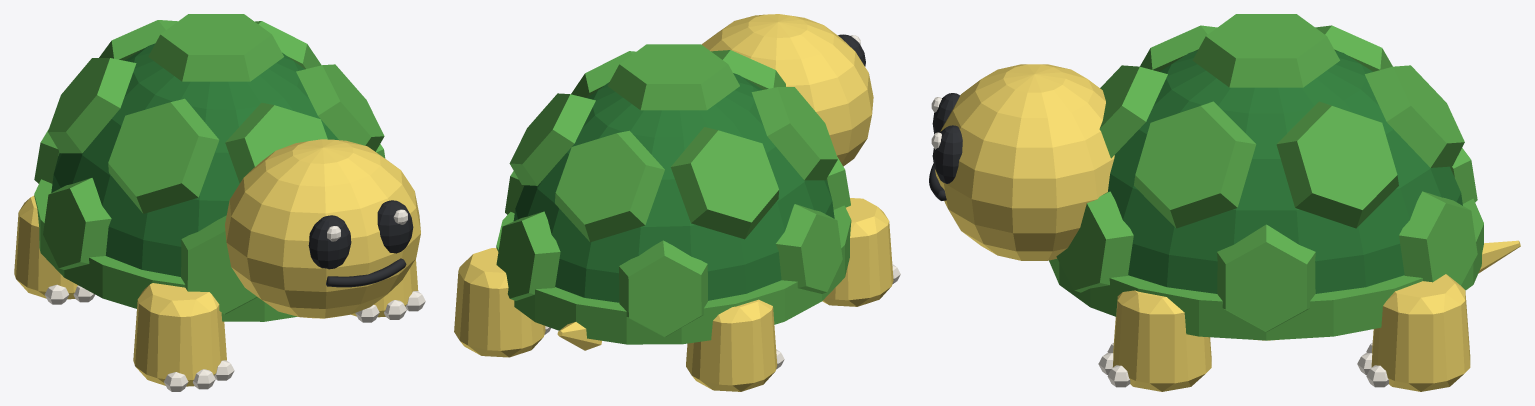
Rendered from chunky-turtle-pet.glb.
The picture shows the model from 3 angles, left to right: view 1: azimuth 30°, elevation 25°; view 2: azimuth 150°, elevation 25°; view 3: azimuth 270°, elevation 25°; orthographic projection. The views are drawn at different scales.
Visible parts, largest first — view 1: Head, Shell_Dome, Shell_Plate_04, Leg_FL, Shell_Plate_00, Shell_Plate_03, Shell_Rim, Shell_Plate_10, Shell_Plate_06, Shell_Plate_05, Shell_Plate_11, Leg_BL (+10 smaller); view 2: Shell_Dome, Head, Shell_Rim, Shell_Plate_02, Shell_Plate_03, Shell_Plate_00, Shell_Plate_09, Leg_BR, Leg_BL, Shell_Plate_04, Leg_FL, Shell_Plate_10 (+7 smaller); view 3: Shell_Dome, Head, Shell_Plate_01, Shell_Plate_06, Shell_Rim, Leg_BR, Shell_Plate_00, Shell_Plate_07, Leg_FR, Shell_Plate_02, Shell_Plate_08, Shell_Plate_12 (+7 smaller).
Part boxes in pixels (left/top/right/bottom): Head: left=225, top=139, right=420, bottom=318; Shell_Dome: left=51, top=43, right=338, bottom=276; Shell_Plate_04: left=108, top=98, right=219, bottom=213; Leg_FL: left=133, top=283, right=226, bottom=386; Shell_Plate_00: left=148, top=14, right=283, bottom=81; Shell_Plate_03: left=48, top=58, right=136, bottom=153; Shell_Rim: left=34, top=179, right=297, bottom=321; Shell_Plate_10: left=43, top=178, right=111, bottom=269; Shell_Plate_06: left=296, top=64, right=384, bottom=151; Shell_Plate_05: left=225, top=102, right=327, bottom=183; Shell_Plate_11: left=181, top=215, right=257, bottom=314; Leg_BL: left=14, top=195, right=77, bottom=299; Shell_Dome: left=513, top=73, right=834, bottom=302; Head: left=701, top=14, right=873, bottom=166; Shell_Rim: left=496, top=205, right=851, bottom=344; Shell_Plate_02: left=555, top=130, right=664, bottom=242; Shell_Plate_03: left=670, top=127, right=779, bottom=239; Shell_Plate_00: left=607, top=44, right=739, bottom=110; Shell_Plate_09: left=619, top=240, right=707, bottom=337; Leg_BR: left=454, top=248, right=545, bottom=357; Leg_BL: left=686, top=299, right=777, bottom=391; Shell_Plate_04: left=751, top=87, right=837, bottom=180; Leg_FL: left=822, top=198, right=893, bottom=306; Shell_Plate_10: left=776, top=204, right=842, bottom=293; Shell_Dome: left=1108, top=50, right=1462, bottom=293; Head: left=935, top=64, right=1114, bottom=260; Shell_Plate_01: left=1276, top=101, right=1398, bottom=228; Shell_Plate_06: left=1134, top=101, right=1256, bottom=228; Shell_Rim: left=1049, top=198, right=1483, bottom=340; Leg_BR: left=1371, top=274, right=1470, bottom=391; Shell_Plate_00: left=1192, top=14, right=1339, bottom=87; Shell_Plate_07: left=1217, top=224, right=1315, bottom=332; Leg_FR: left=1112, top=290, right=1211, bottom=391; Shell_Plate_02: left=1365, top=65, right=1464, bottom=167; Shell_Plate_08: left=1399, top=191, right=1477, bottom=285; Shell_Plate_12: left=1056, top=191, right=1133, bottom=292.
Bounding box in the file's own units: 2.35 × 1.85 × 3.52.
